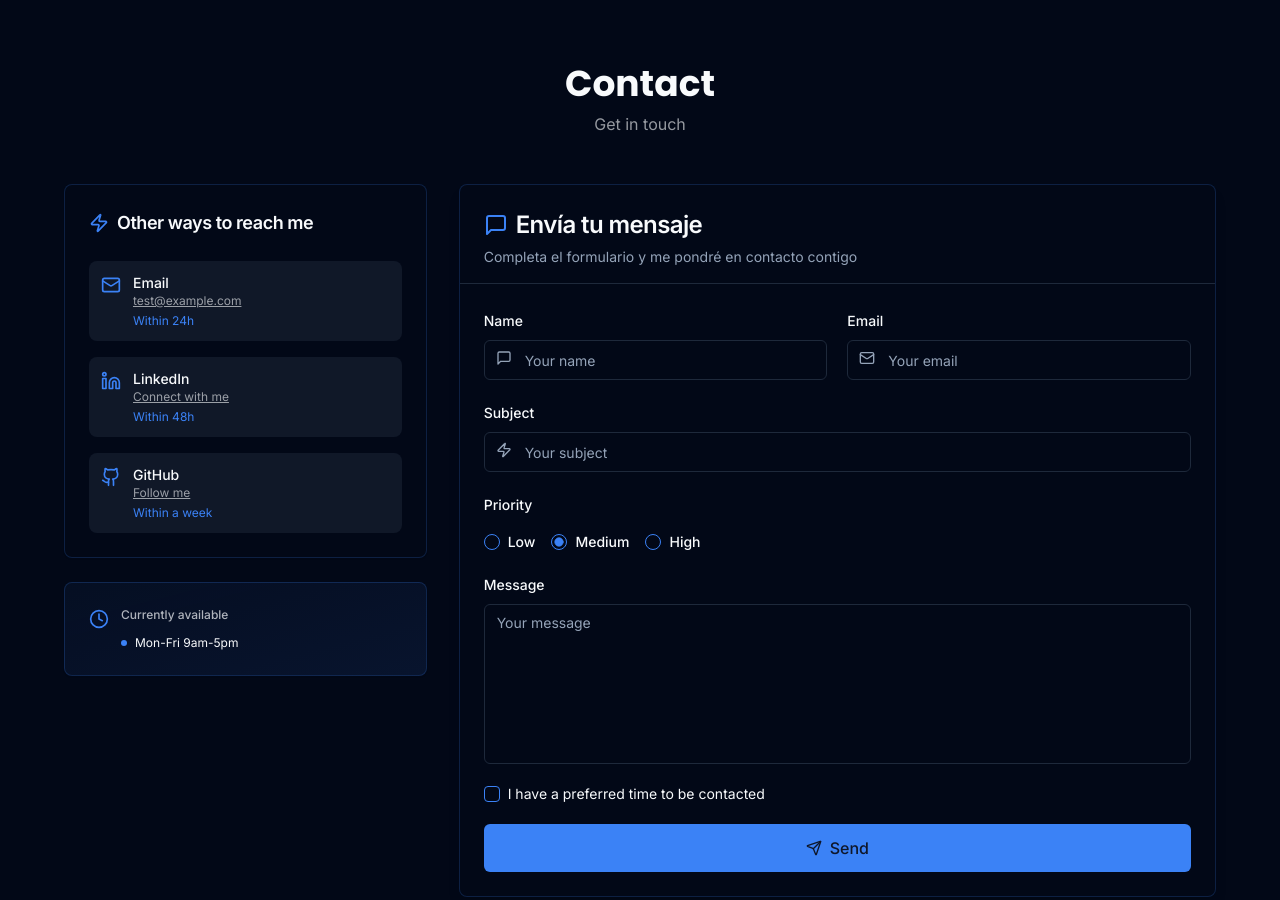
ContactForm › surfaces an error message when submission fails
Type "John Doe" into the field with placeholder "Your name" at (656, 360), box x1=484 y1=340 x2=827 y2=380
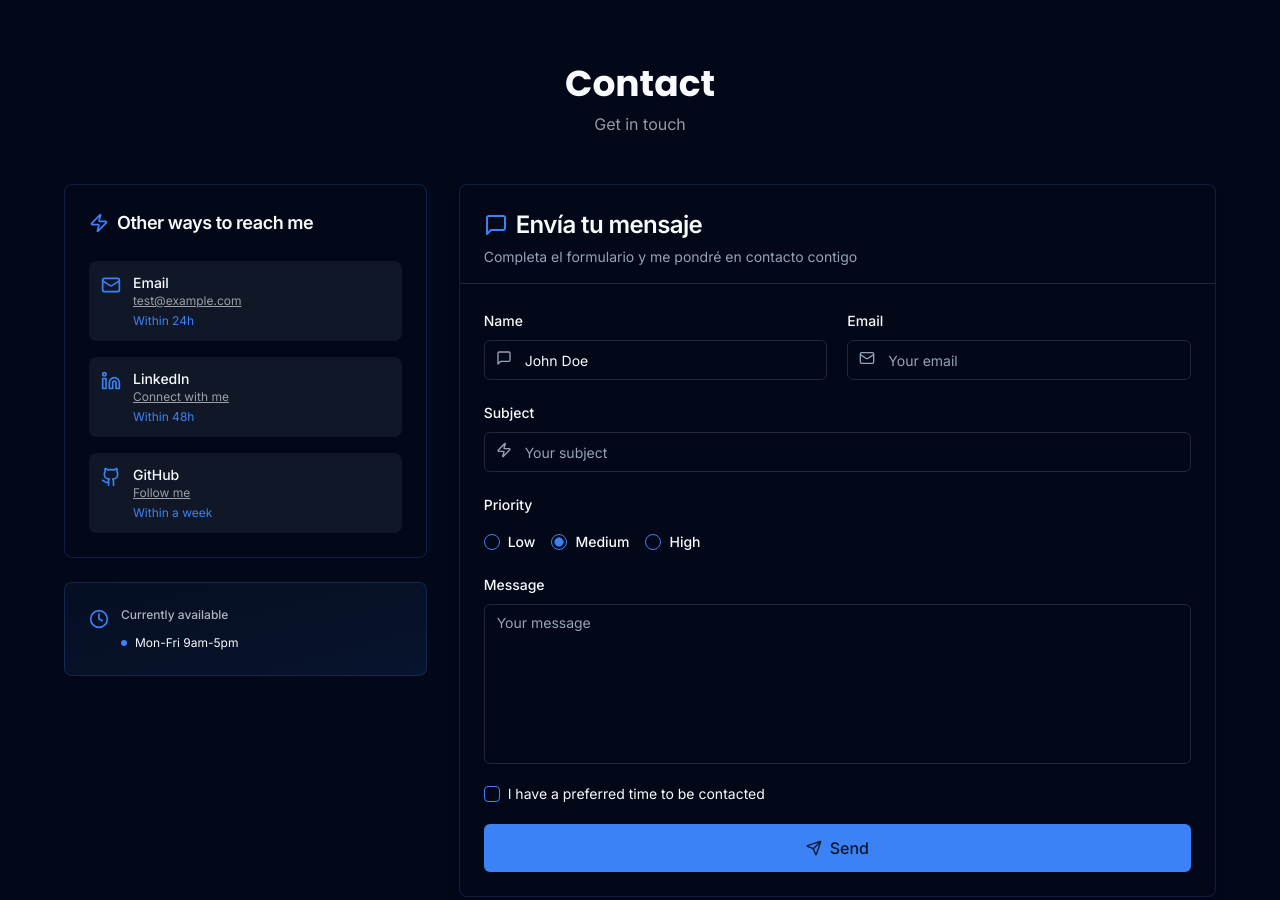
Type "john@example.com" into the field with placeholder "Your email" at (1019, 360), box x1=847 y1=340 x2=1191 y2=380
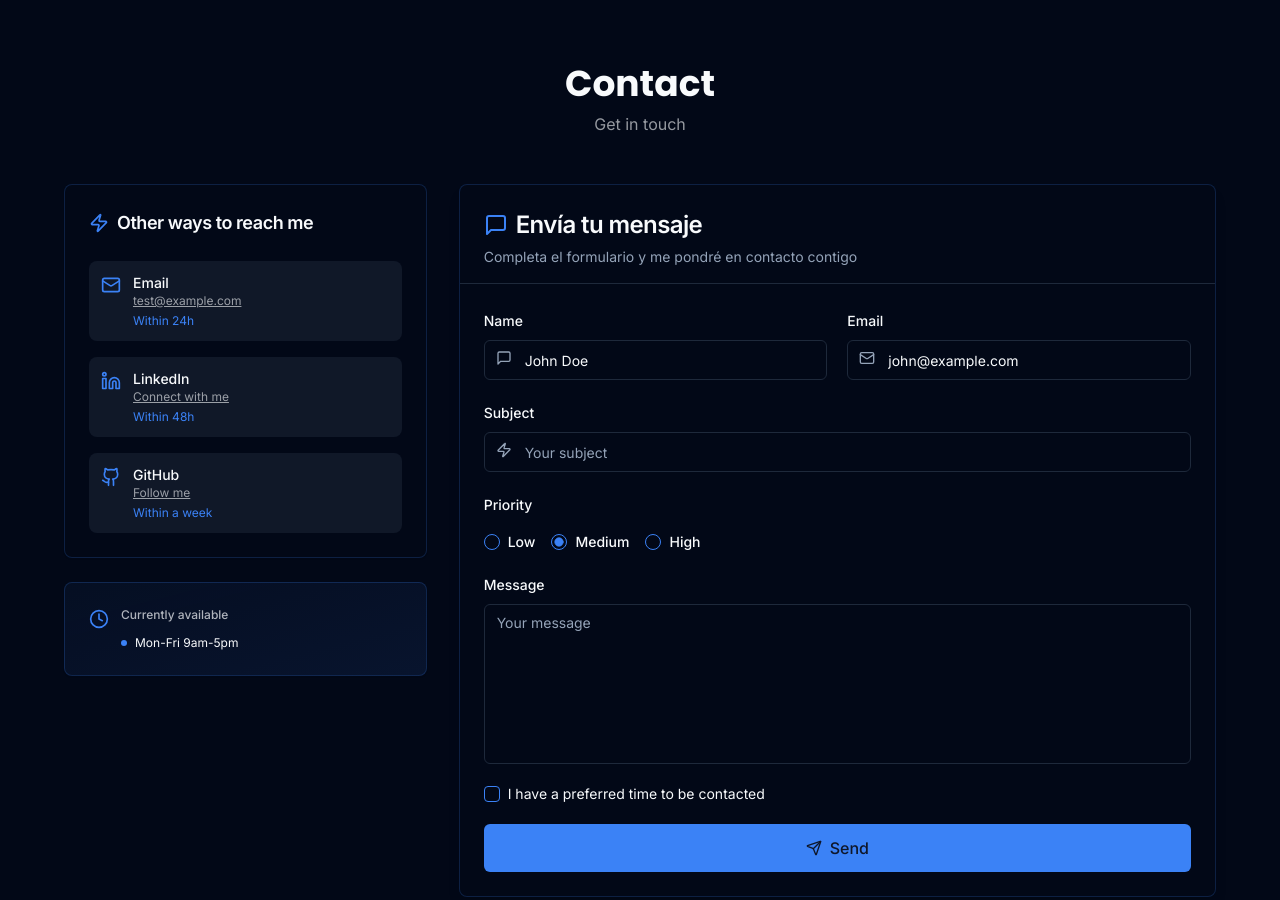
Type "This is a valid message body." into the text box with placeholder "Your message" at (837, 684), box x1=484 y1=604 x2=1191 y2=764
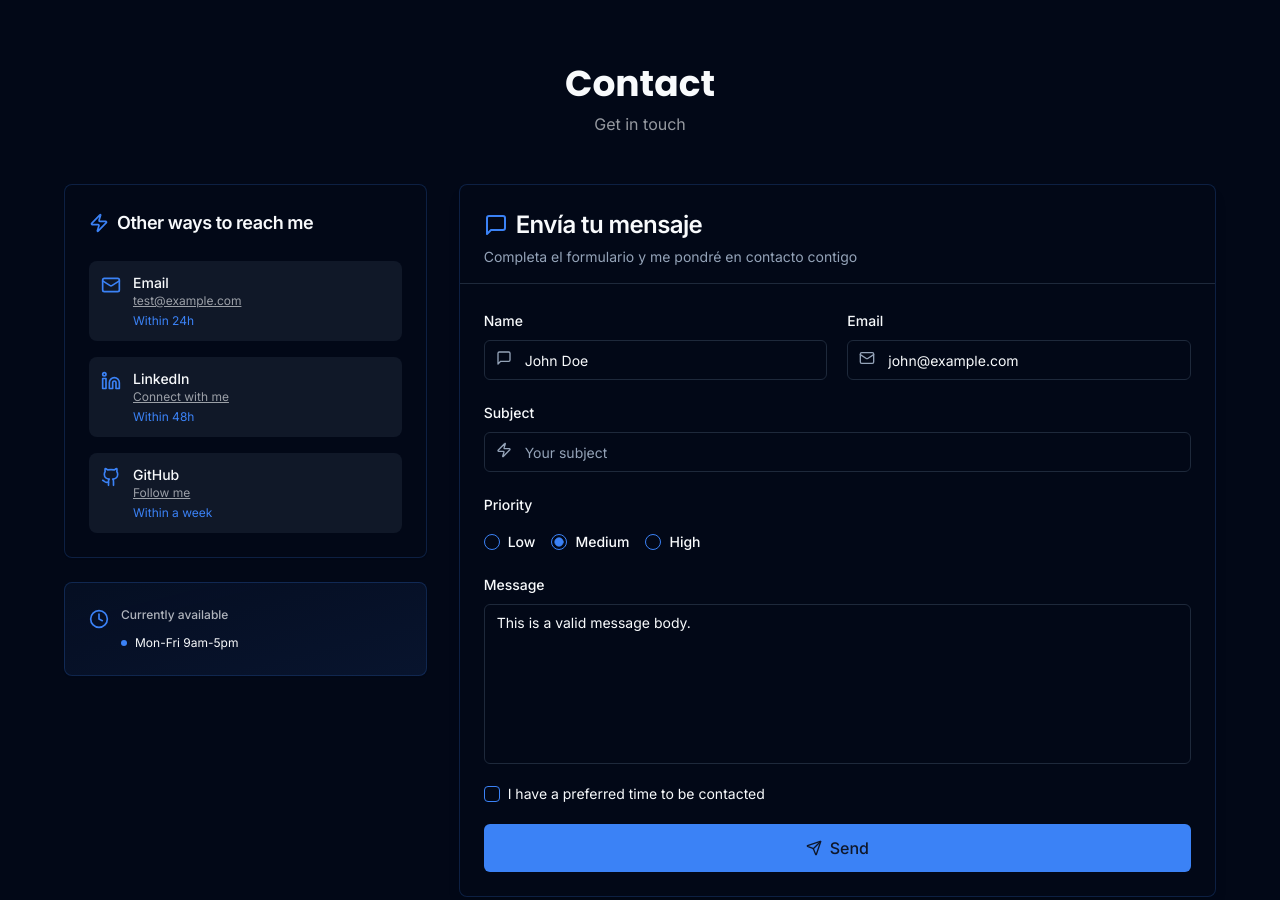
Submit the form, box x1=484 y1=308 x2=1191 y2=872
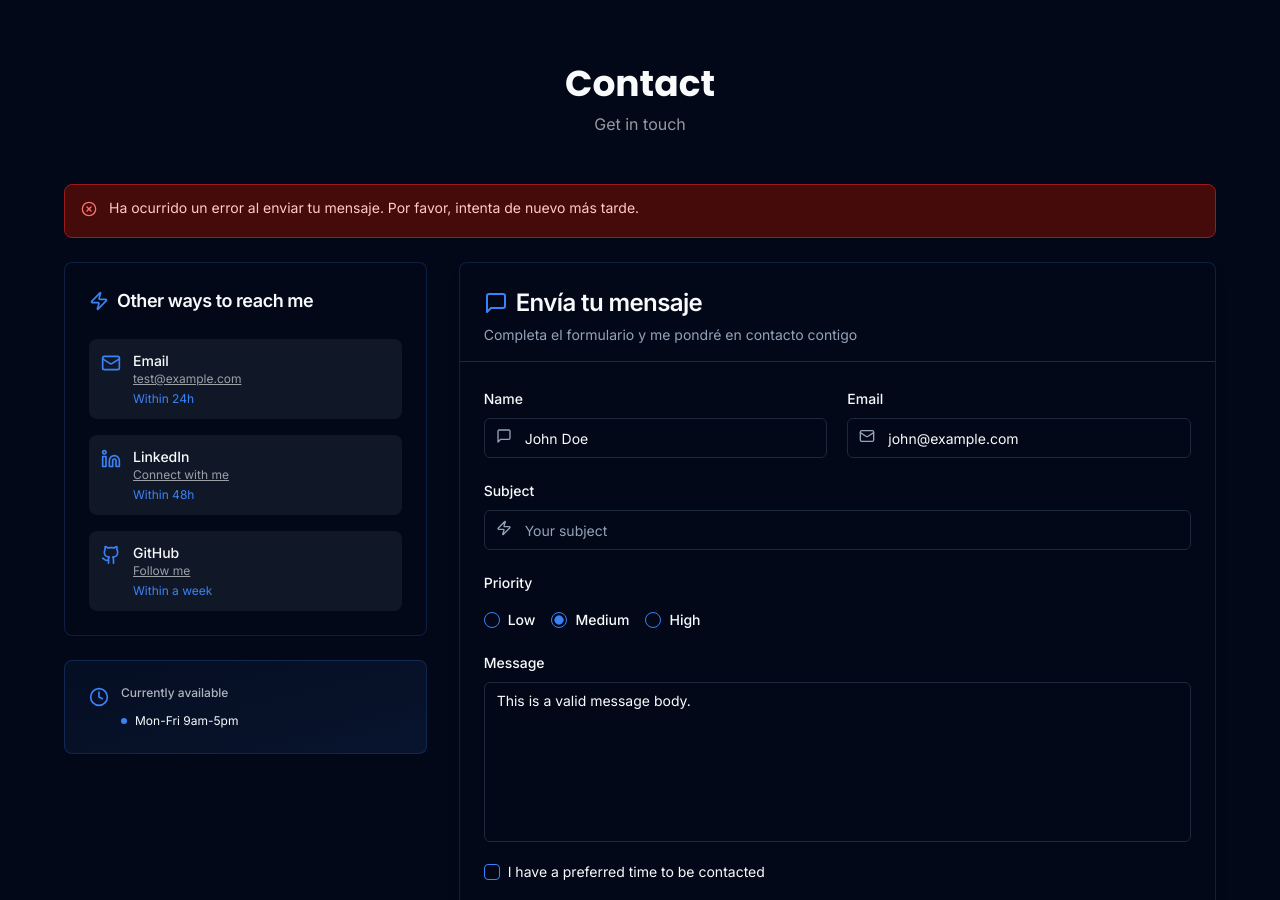
expect the text "Ha ocurrido un error al enviar tu mensaje. Por favor, intenta de nuevo más tarde." is shown: met, box x1=109 y1=199 x2=639 y2=216
